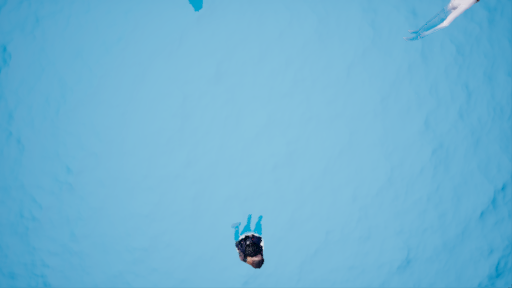person: (205, 207, 291, 273), (405, 1, 485, 50)
